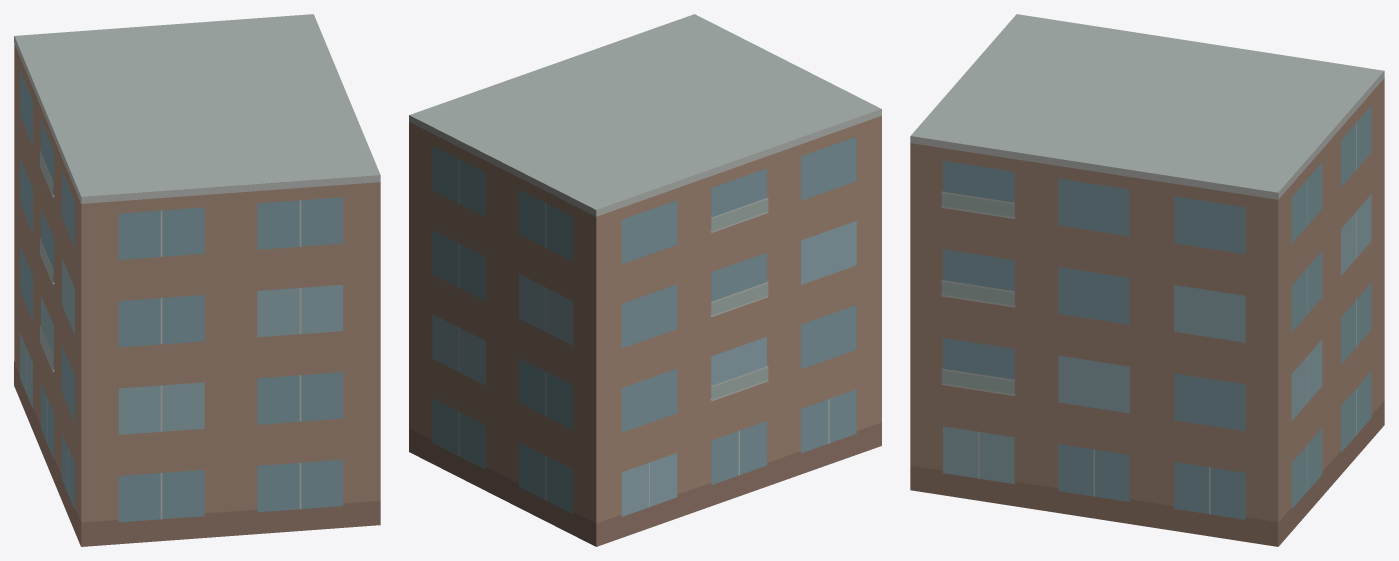
The model's file is survey-upis-32829009.glb.
The picture shows the model from 3 angles, left to right: view 1: azimuth 30°, elevation 25°; view 2: azimuth 150°, elevation 25°; view 3: azimuth 270°, elevation 25°; orthographic projection. The views are drawn at different scales.
Parts seen in each view (by area): view 1: survey-upis-32829009.tmp; view 2: survey-upis-32829009.tmp; view 3: survey-upis-32829009.tmp.
Boxes of the visible parts, x1,y1,x2,y2 form: survey-upis-32829009.tmp: [14, 14, 380, 546]; survey-upis-32829009.tmp: [409, 14, 881, 546]; survey-upis-32829009.tmp: [910, 14, 1384, 546].
Bounding box in the file's own units: 13.21 × 12.2 × 14.81.
